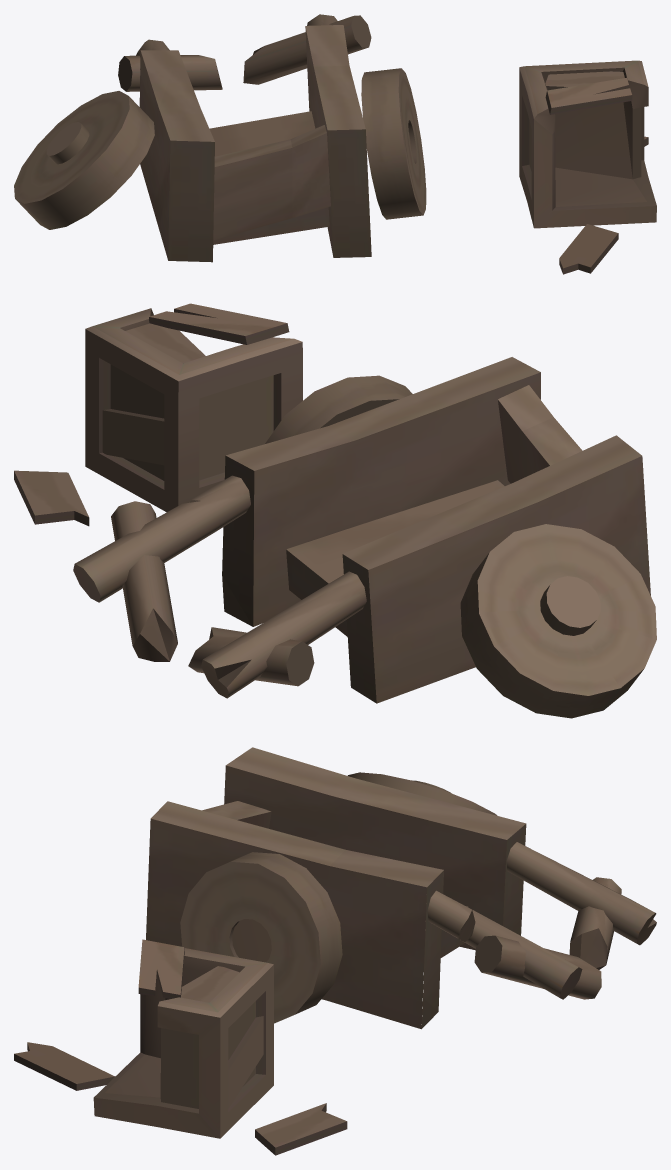
The model's file is NPC_Cart_001.glb.
The picture shows the model from 3 angles, top to bottom: view 1: azimuth 30°, elevation 25°; view 2: azimuth 150°, elevation 25°; view 3: azimuth 270°, elevation 25°; orthographic projection. The views are drawn at different scales.
Parts seen in each view (by area): view 1: NPC_Cart_001_mesh; view 2: NPC_Cart_001_mesh; view 3: NPC_Cart_001_mesh.
Boxes of the visible parts, x1,y1,x2,y2 form: NPC_Cart_001_mesh: (14, 14, 656, 274); NPC_Cart_001_mesh: (14, 303, 656, 718); NPC_Cart_001_mesh: (14, 747, 656, 1155).
Size of the model in its own units: 5.26 by 1.26 by 4.71.
1 material, 1 textured.
